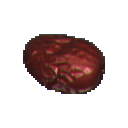gd: (7, 20, 122, 114)
